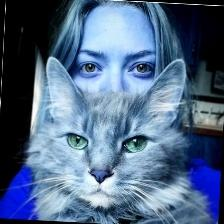kedo: (24, 58, 206, 223)
